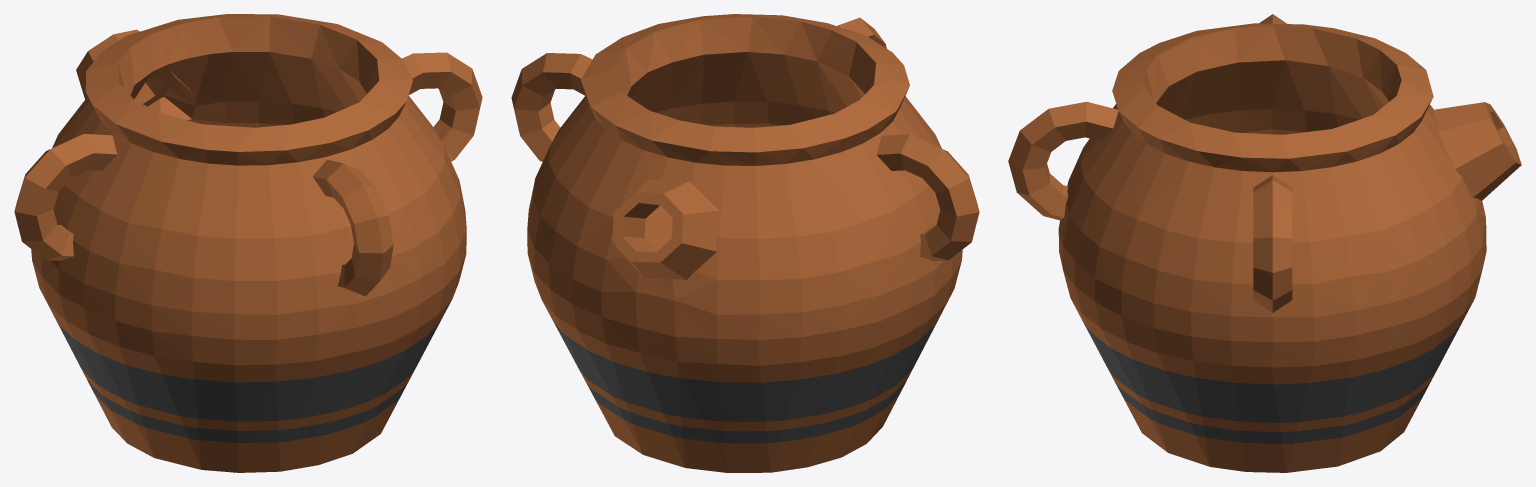
Rendered from Pottery 10_3.fbx.
3 renders of one model, left to right at view 1: azimuth 30°, elevation 25°; view 2: azimuth 150°, elevation 25°; view 3: azimuth 270°, elevation 25°, orthographic. The views are drawn at different scales.
Parts seen in each view (by area): view 1: Pottery 10_3; view 2: Pottery 10_3; view 3: Pottery 10_3.
Boxes of the visible parts, bbox=[...] form: Pottery 10_3: bbox=[14, 14, 482, 472]; Pottery 10_3: bbox=[511, 14, 979, 472]; Pottery 10_3: bbox=[1008, 14, 1521, 472].
Bounding box in the file's own units: 91.31 × 63.77 × 88.61.
